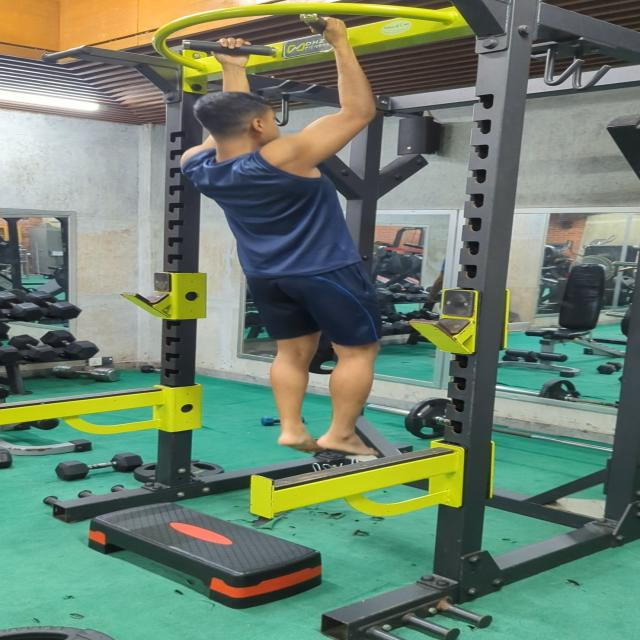Normal_PullUps: (176, 14, 389, 462)
